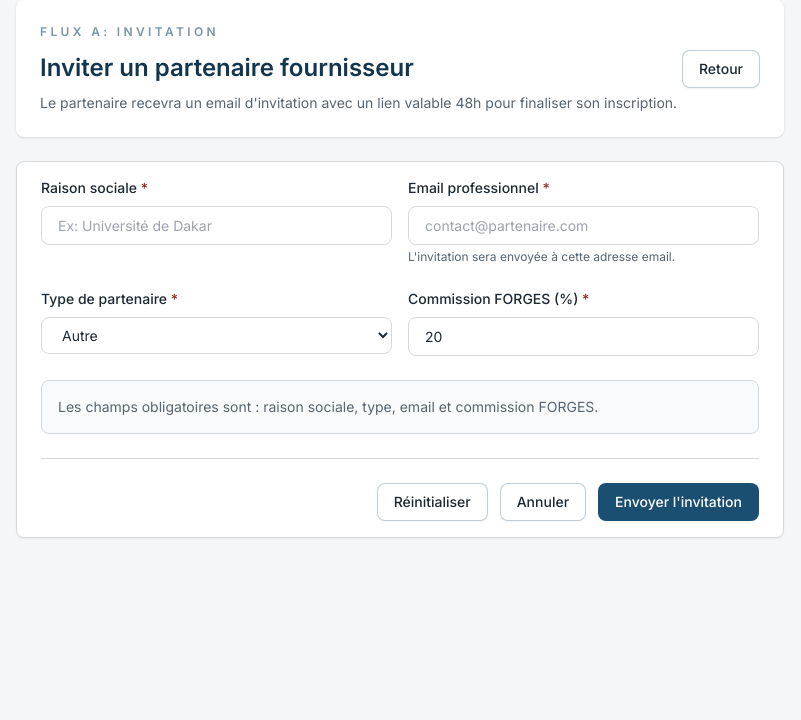
Test: InvitationPartenaire › envoie l invitation admin avec le bon contrat backend
The image size is (801, 720).
Type "Tech Formation" into the field labelled "Raison sociale *" at (216, 226), box [41, 206, 392, 245]
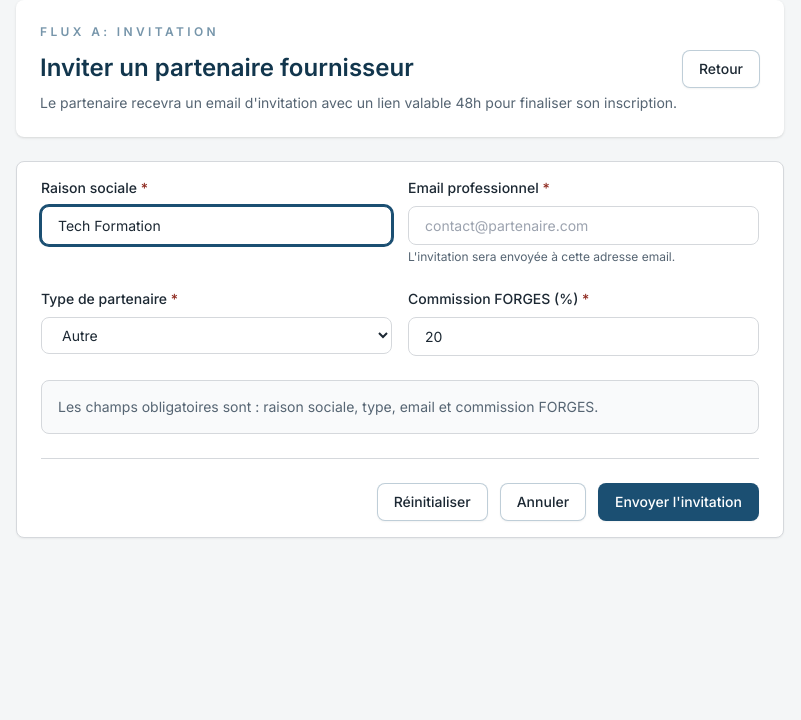
Type "partner@example.com" into the field labelled "Email professionnel *" at (584, 226), box [408, 206, 759, 245]
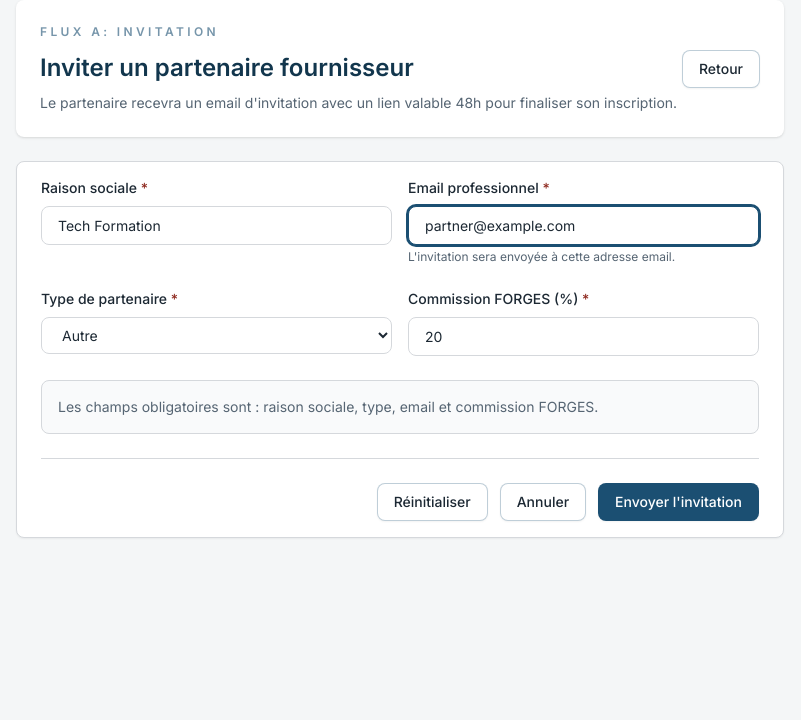
Select "ONG" in the dropdown labelled "Type de partenaire *" at (216, 336), box [41, 317, 392, 354]
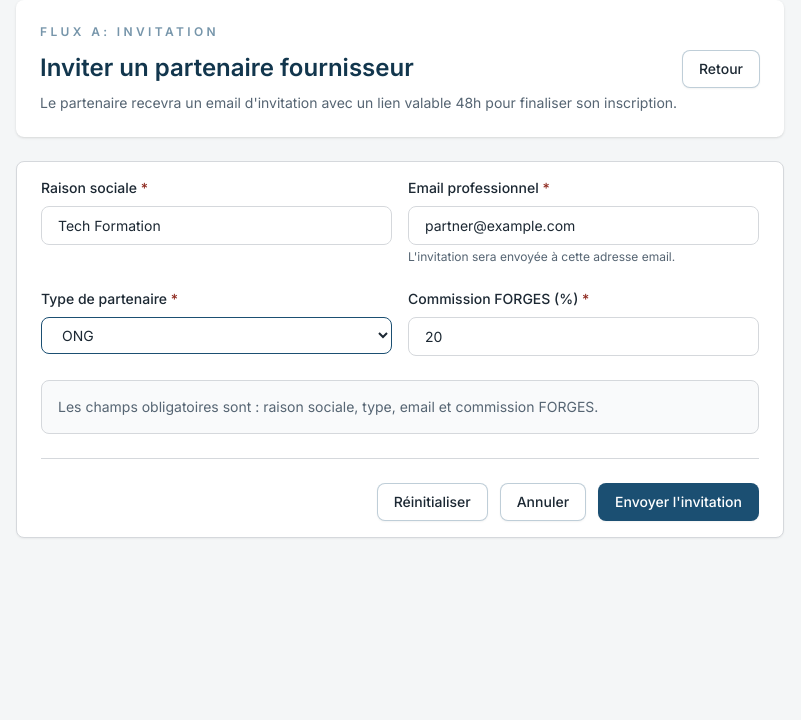
Type "18" into the number field labelled "Commission FORGES (%) *" at (584, 336), box [408, 317, 759, 356]
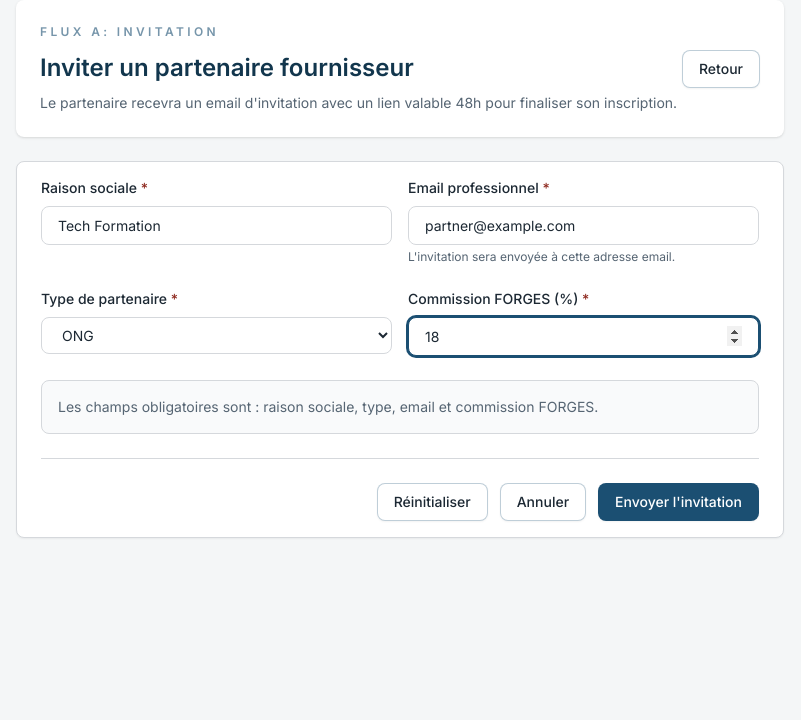
Click the button "Envoyer l'invitation" at (678, 502), box [598, 483, 759, 521]
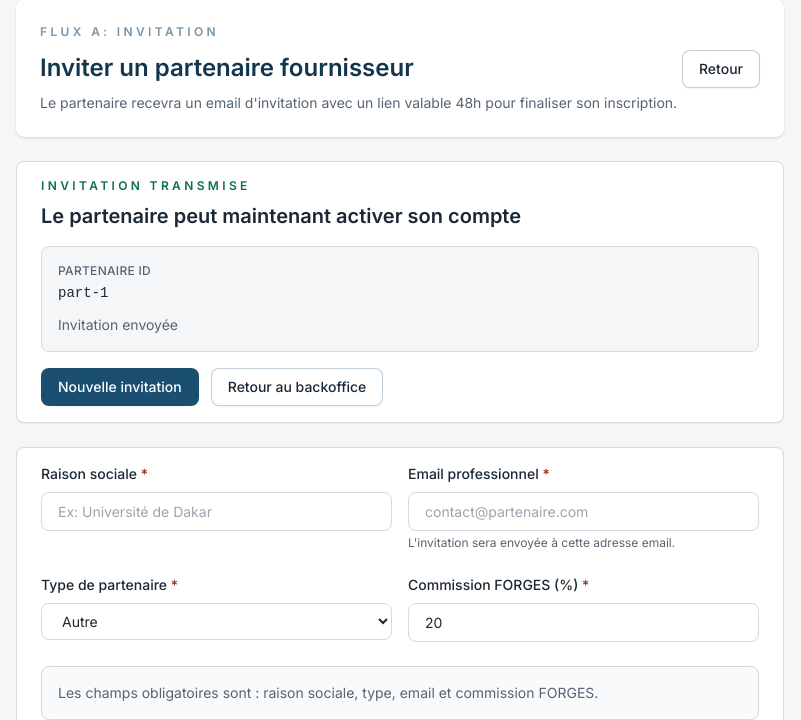
Check: the text "Invitation transmise" is shown, box [41, 178, 251, 193]
Check: the text "part-1" is shown, box [58, 285, 108, 301]
